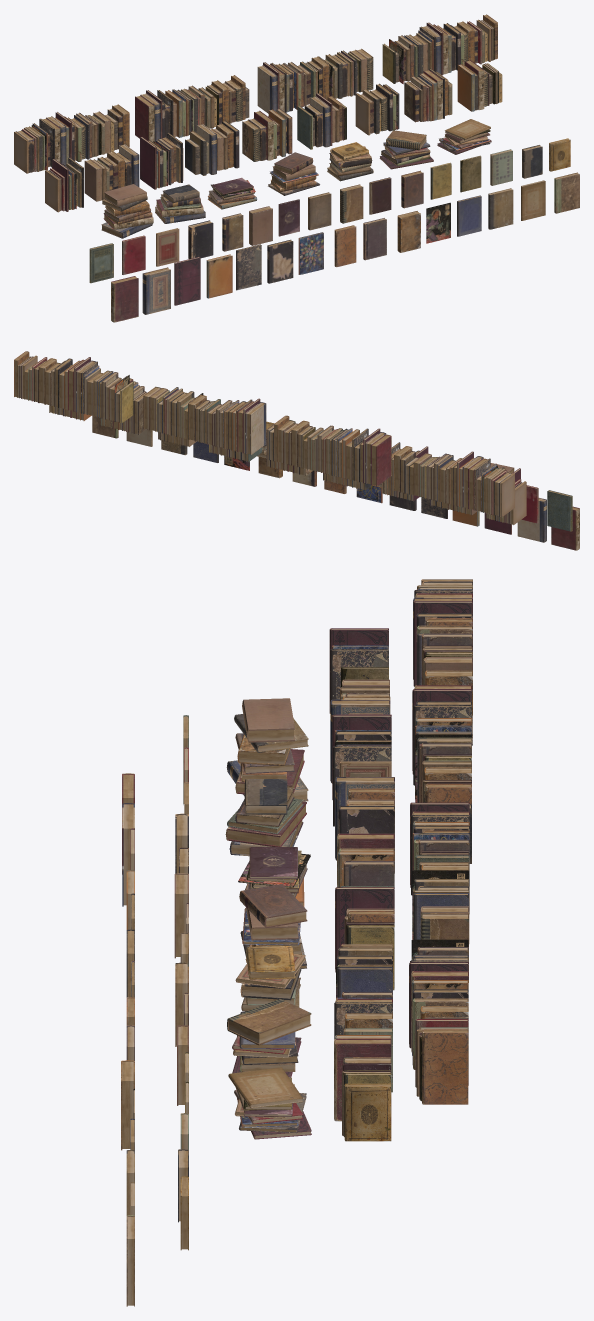
The model's file is antique_book_set.glb.
3 renders of one model, top to bottom at view 1: azimuth 30°, elevation 25°; view 2: azimuth 150°, elevation 25°; view 3: azimuth 270°, elevation 25°, orthographic. The views are drawn at different scales.
Parts seen in each view (by area): view 1: Cube.001_6, Cube.034_2, Cube.090_3, Cube.026_1, Cube.042_7, Cube.051_9, Cube.052_13, Cube.007_11, Cube.064_15, Cube.131_4, Cube.023_12, Cube.005_10 (+39 smaller); view 2: Cube.034_2, Cube.026_1, Cube.001_6, Cube.090_3, Cube.041_28, Cube.064_15, Cube.048_8, Cube.072_49, Cube.068_48, Cube.023_12, Cube.059_42, Cube.051_9 (+15 smaller); view 3: Cube.090_3, Cube.034_2, Cube.026_1, Cube.001_6, Cube.005_10, Cube.131_4, Cube.019_17, Cube.069_19, Cube.129_5, Cube.023_12, Cube.052_13, Cube.070_20 (+10 smaller).
Boxes of the visible parts, bbox=[...] form: Cube.001_6: bbox=[14, 104, 129, 173]; Cube.034_2: bbox=[257, 48, 373, 113]; Cube.090_3: bbox=[382, 14, 497, 84]; Cube.026_1: bbox=[135, 75, 249, 141]; Cube.042_7: bbox=[185, 121, 239, 175]; Cube.051_9: bbox=[242, 109, 292, 161]; Cube.052_13: bbox=[297, 93, 346, 149]; Cube.007_11: bbox=[84, 144, 139, 201]; Cube.064_15: bbox=[404, 68, 452, 122]; Cube.131_4: bbox=[101, 184, 153, 238]; Cube.023_12: bbox=[140, 133, 183, 189]; Cube.005_10: bbox=[457, 60, 502, 111]; Cube.034_2: bbox=[143, 386, 266, 454]; Cube.026_1: bbox=[269, 415, 391, 486]; Cube.001_6: bbox=[394, 446, 514, 516]; Cube.090_3: bbox=[14, 351, 133, 422]; Cube.041_28: bbox=[547, 490, 572, 531]; Cube.064_15: bbox=[101, 376, 146, 434]; Cube.048_8: bbox=[486, 467, 526, 525]; Cube.072_49: bbox=[517, 497, 546, 542]; Cube.068_48: bbox=[551, 506, 579, 550]; Cube.023_12: bbox=[381, 442, 428, 501]; Cube.059_42: bbox=[522, 485, 538, 523]; Cube.051_9: bbox=[266, 420, 313, 475]; Cube.090_3: bbox=[409, 939, 468, 1104]; Cube.034_2: bbox=[410, 802, 469, 982]; Cube.026_1: bbox=[412, 685, 471, 863]; Cube.001_6: bbox=[413, 579, 472, 745]; Cube.005_10: bbox=[334, 1035, 391, 1141]; Cube.131_4: bbox=[226, 698, 308, 801]; Cube.019_17: bbox=[227, 998, 311, 1077]; Cube.069_19: bbox=[225, 779, 306, 856]; Cube.129_5: bbox=[228, 1067, 311, 1139]; Cube.023_12: bbox=[332, 714, 391, 826]; Cube.052_13: bbox=[335, 886, 394, 990]; Cube.070_20: bbox=[239, 884, 307, 968].
Size of the model in its own units: 52.09 by 14.33 by 16.43.
Materials: 1 (1 with a texture image).
